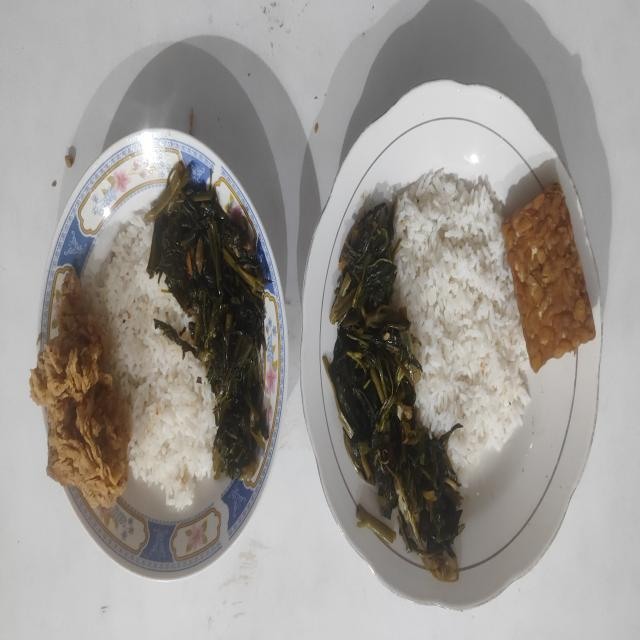nasi_putih: (392, 170, 530, 471), (86, 201, 216, 510)
tempe_goreng: (502, 184, 596, 372)
tumis_kangkung: (323, 203, 464, 582), (145, 164, 272, 479)
